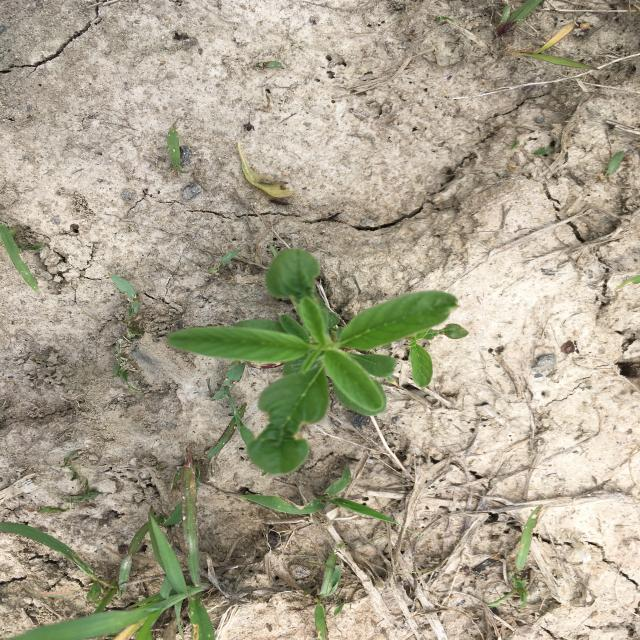Waterhemp: (168, 248, 469, 476)
